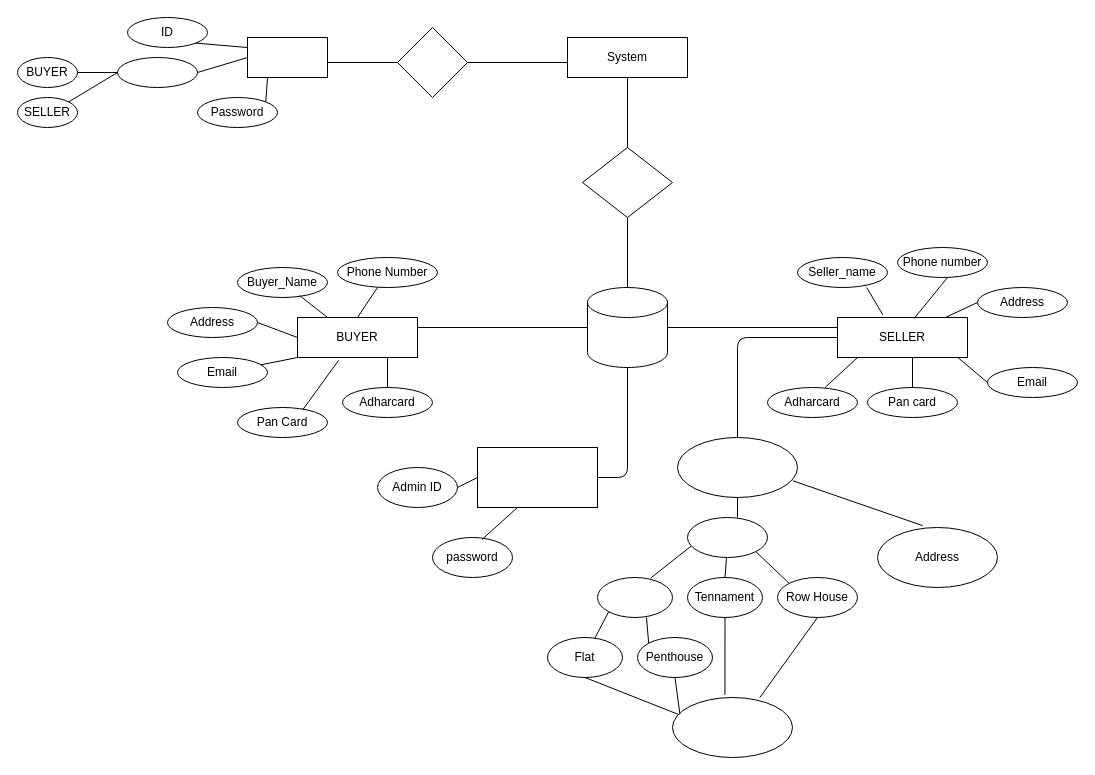
Image size: 1095x775. Some labels were removed from this diagram. The box of each missing label's shape, as (x1, y1, x2, y2) in pixels:
ADMIN: (476, 446, 598, 508)
Appartment: (596, 576, 672, 618)
Authorization: (582, 146, 672, 218)
BHK's: (672, 696, 792, 758)
DATABASE: (586, 286, 668, 368)
House Information: (676, 436, 798, 498)
House Type: (686, 516, 768, 558)
Login: (246, 36, 328, 78)
Manages: (396, 26, 468, 98)
User: (116, 56, 198, 88)
